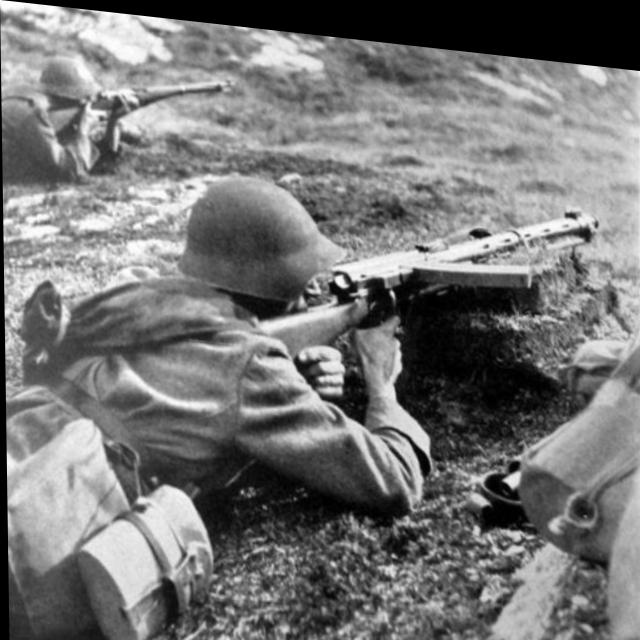other: (2, 148, 427, 640), (1, 51, 132, 176)
